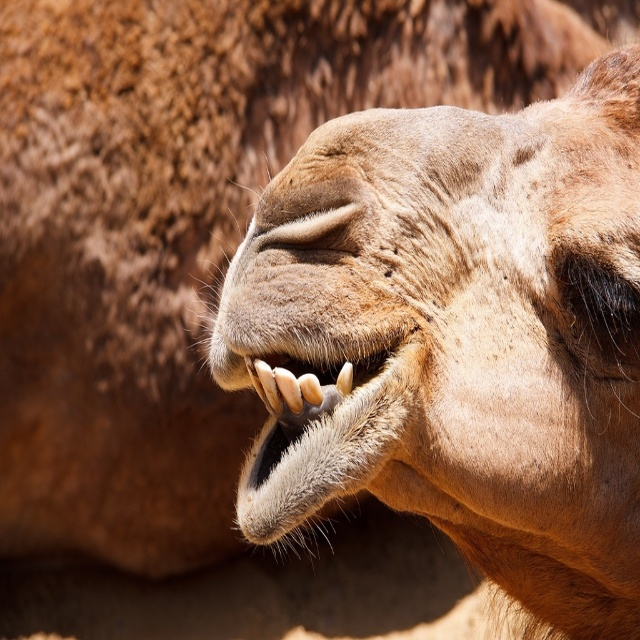Camel: (189, 27, 640, 639)
